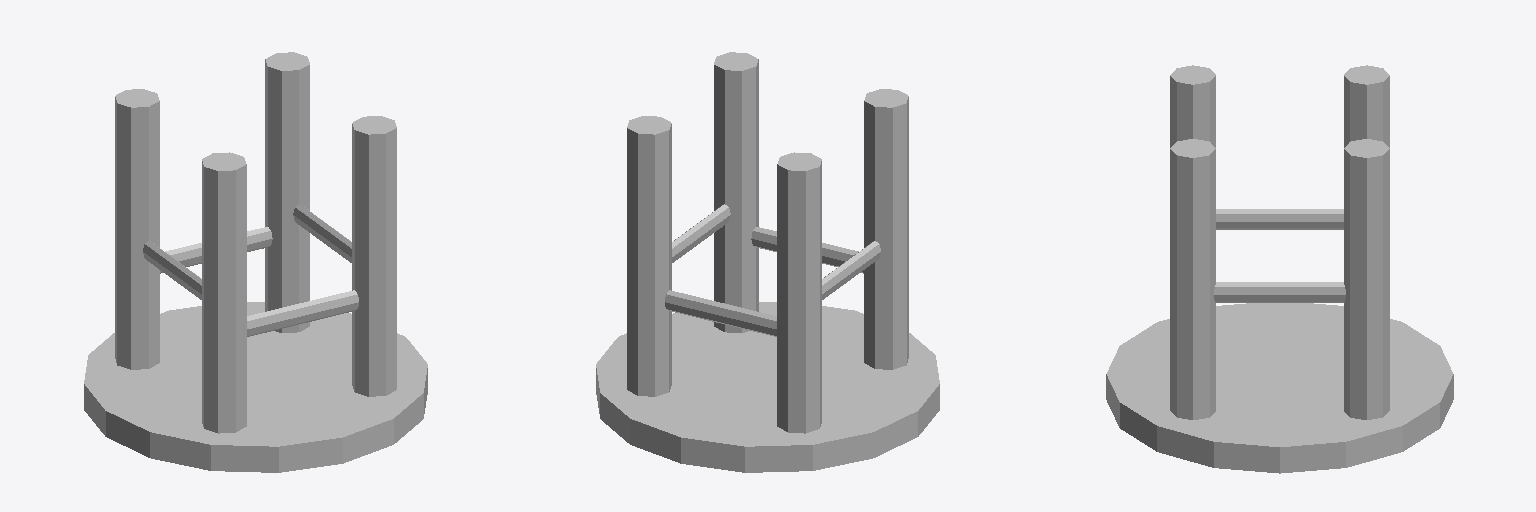
The model's file is banco_bar.obj.
The picture shows the model from 3 angles: view 1: azimuth 30°, elevation 25°; view 2: azimuth 150°, elevation 25°; view 3: azimuth 270°, elevation 25°; orthographic projection.
Visible parts, largest first — view 1: base; view 2: base; view 3: base.
Boxes of the visible parts, x1=… form: base: x1=84, y1=52, x2=427, y2=472; base: x1=596, y1=52, x2=939, y2=472; base: x1=1106, y1=65, x2=1453, y2=473.
Size of the model in its own units: 0.6 by 0.55 by 0.6.